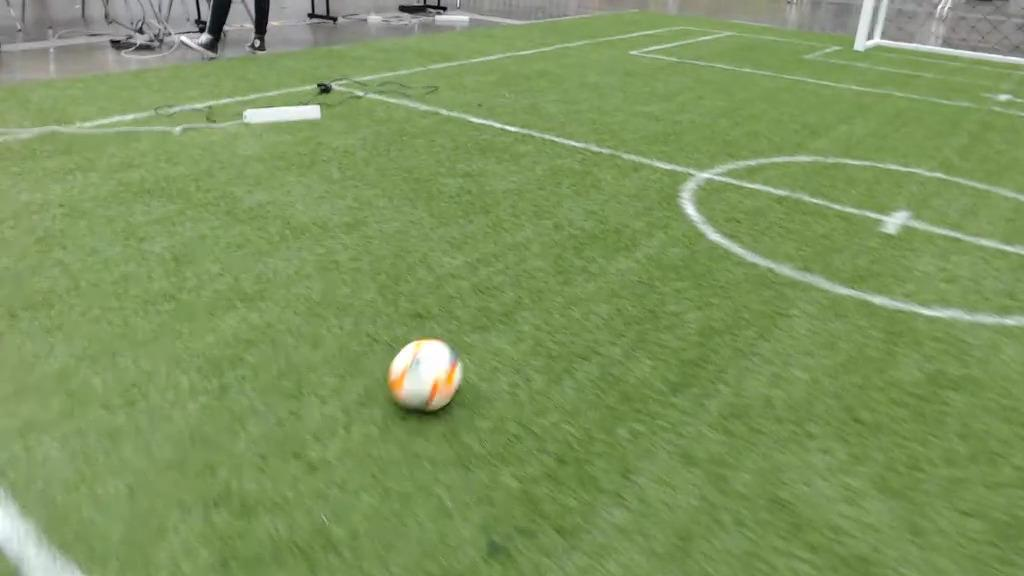ball: (387, 338, 463, 412)
